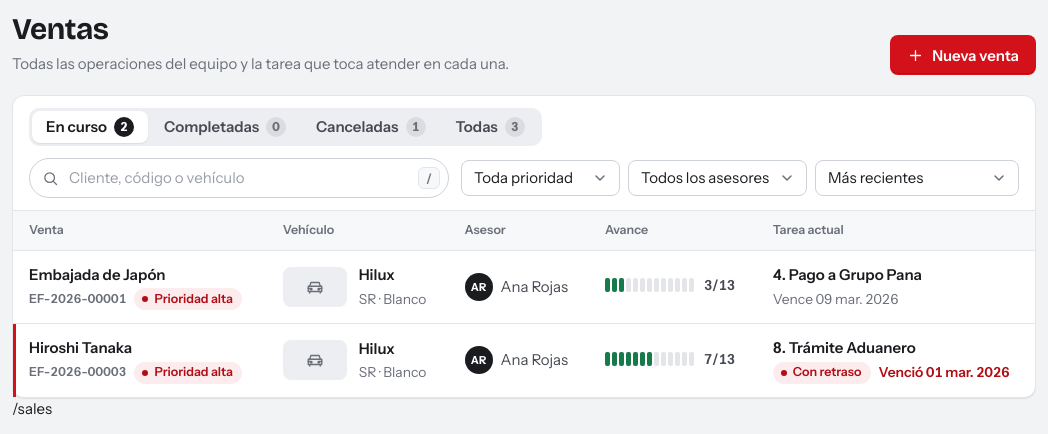
Test: SalesPage › switches state from the tabs and keeps it in the address
Expected: the link "Embajada de Japón" is shown, [29,265,166,284]
Click the tab "Canceladas 1" at (371,127), box [302,111,440,143]
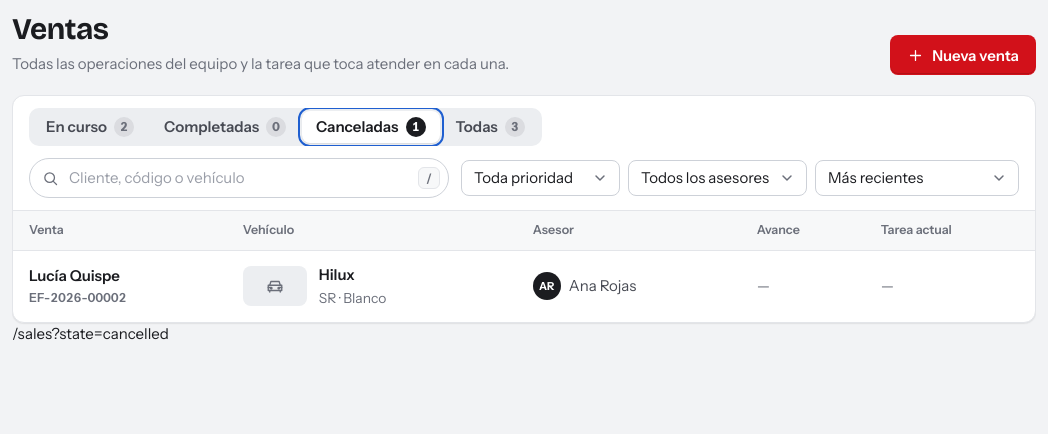
Expected: the link "Lucía Quispe" is shown, [29,266,120,285]
Expected: the link "Embajada de Japón" is gone
Expected: the text with test id "where" shows "state=cancelled", [12,324,169,343]
Click the tab "En curso 2" at (90,127), box [32,111,148,143]
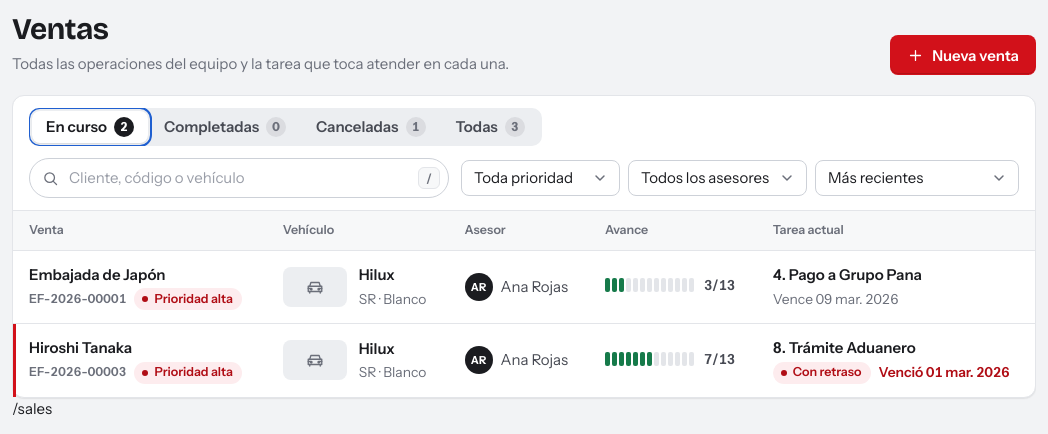
Expected: the link "Embajada de Japón" is shown, [29,265,166,284]
Expected: the text with test id "where" no longer shows "state=", [12,399,52,418]
